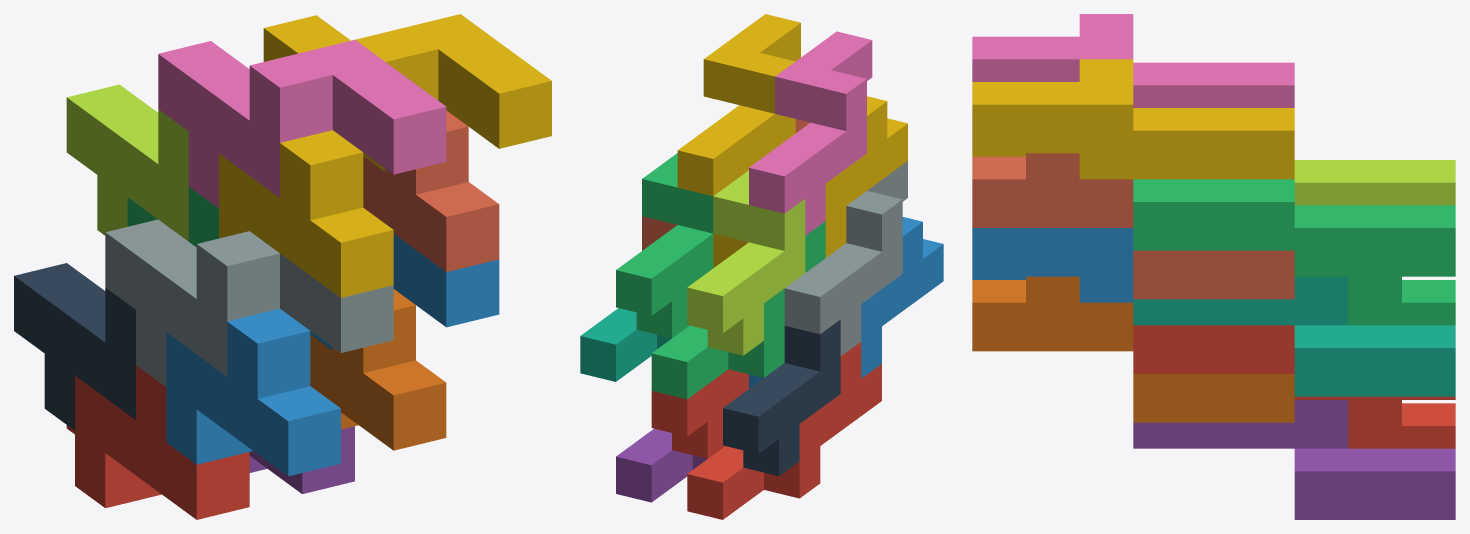
The model's file is tiling.obj.
The picture shows the model from 3 angles, left to right: view 1: azimuth 30°, elevation 25°; view 2: azimuth 150°, elevation 25°; view 3: azimuth 270°, elevation 25°; orthographic projection. The views are drawn at different scales.
Visible parts, largest first — view 1: copy_2_domain_4, copy_2_domain_2, copy_1_domain_2, copy_1_domain_4, copy_2_domain_8, copy_1_domain_1, copy_2_domain_1, copy_2_domain_3, copy_1_domain_6, copy_1_domain_8, copy_2_domain_6, copy_1_domain_5 (+1 smaller); view 2: copy_2_domain_4, copy_2_domain_8, copy_2_domain_3, copy_2_domain_2, copy_2_domain_7, copy_2_domain_1, copy_1_domain_1, copy_1_domain_3, copy_1_domain_4, copy_1_domain_2, copy_2_domain_5, copy_1_domain_7 (+2 smaller); view 3: copy_2_domain_8, copy_2_domain_7, copy_1_domain_7, copy_1_domain_8, copy_1_domain_5, copy_1_domain_6, copy_2_domain_4, copy_2_domain_5, copy_2_domain_6, copy_2_domain_3, copy_1_domain_1, copy_1_domain_3.
Boxes of the visible parts, box(x1,y1,x2,y2) form: copy_2_domain_4: box(158, 40, 446, 208); copy_2_domain_2: box(105, 219, 393, 386); copy_1_domain_2: box(166, 308, 340, 476); copy_1_domain_4: box(219, 130, 393, 297); copy_2_domain_8: box(263, 14, 551, 172); copy_1_domain_1: box(66, 365, 249, 519); copy_2_domain_1: box(14, 263, 135, 430); copy_2_domain_3: box(66, 84, 188, 241); copy_1_domain_6: box(310, 289, 446, 450); copy_1_domain_8: box(363, 110, 499, 271); copy_2_domain_6: box(310, 234, 499, 350); copy_1_domain_5: box(249, 426, 354, 493); copy_2_domain_4: box(749, 31, 872, 235); copy_2_domain_8: box(677, 14, 800, 196); copy_2_domain_3: box(687, 170, 805, 355); copy_2_domain_2: box(784, 161, 907, 356); copy_2_domain_7: box(616, 153, 713, 338); copy_2_domain_1: box(723, 319, 840, 476); copy_1_domain_1: box(687, 342, 881, 519); copy_1_domain_3: box(651, 221, 825, 399); copy_1_domain_4: box(713, 96, 907, 267); copy_1_domain_2: box(749, 217, 943, 388); copy_2_domain_5: box(651, 369, 748, 458); copy_1_domain_7: box(580, 308, 671, 381); copy_2_domain_8: box(972, 59, 1294, 179); copy_2_domain_7: box(1133, 179, 1455, 325); copy_1_domain_7: box(1133, 276, 1455, 396); copy_1_domain_8: box(972, 153, 1294, 299); copy_1_domain_5: box(1133, 400, 1455, 519); copy_1_domain_6: box(972, 276, 1294, 422); copy_2_domain_4: box(972, 14, 1294, 107); copy_2_domain_5: box(1133, 325, 1455, 448); copy_2_domain_6: box(972, 228, 1133, 302); copy_2_domain_3: box(1294, 160, 1455, 205); copy_1_domain_1: box(1402, 403, 1455, 448); copy_1_domain_3: box(1402, 280, 1455, 325).
Bounding box in the file's own units: 5 × 9 × 9.
